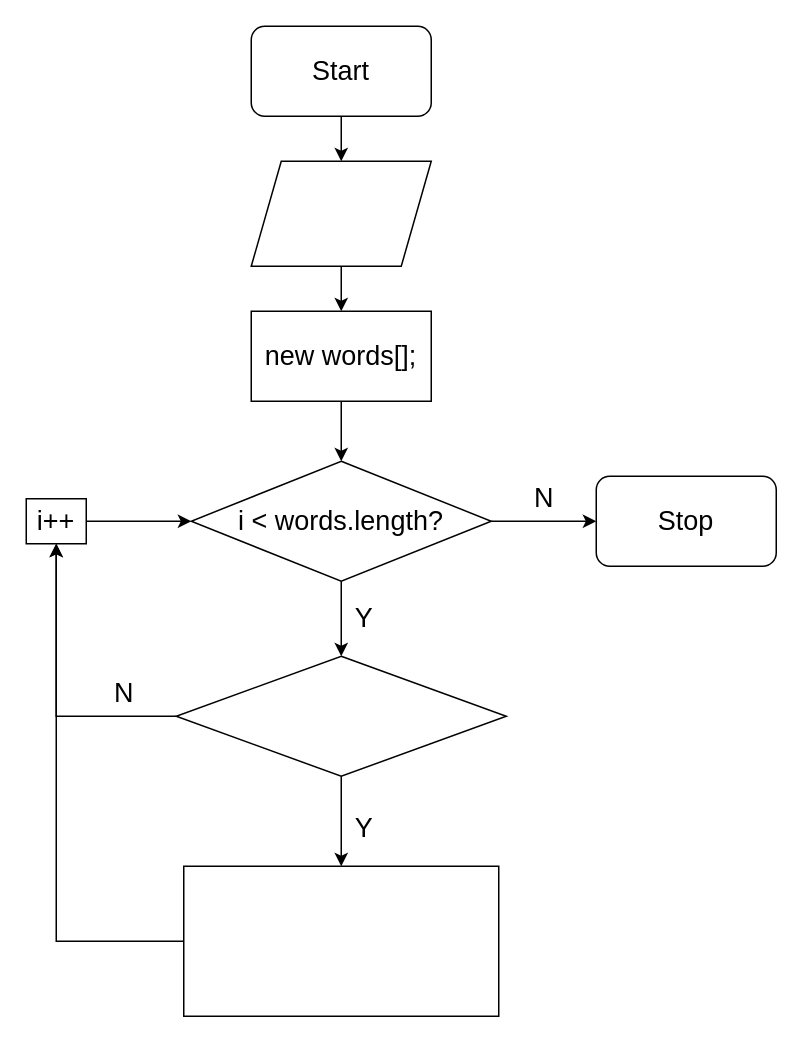
This 803x1043 diagram has some shape labels left out. Here are the shapes that lost their labels. From the top down, the centre of each, then its label:
At pixel 340 213: "words[]; i = 0 j = 0;".
At pixel 340 715: "words[ i ].length <=3?".
At pixel 340 940: "newwords[ j ] = words[ i ]; write(newwords[ j ]; j++".
